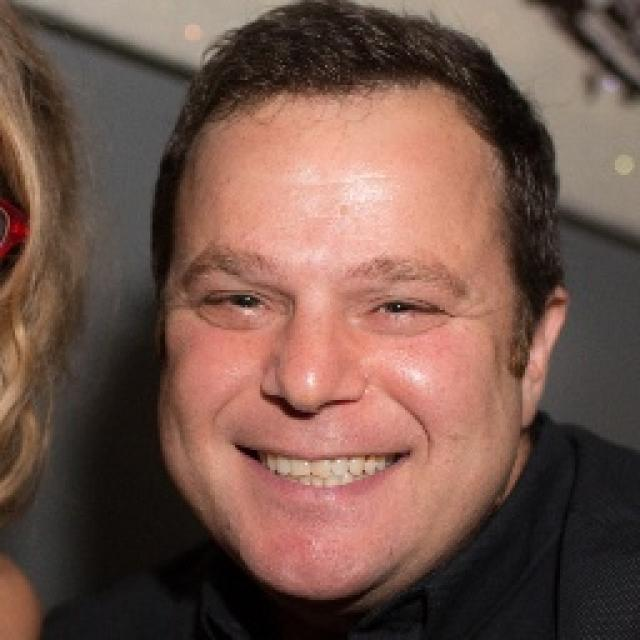earlobe: (520, 285, 568, 427)
